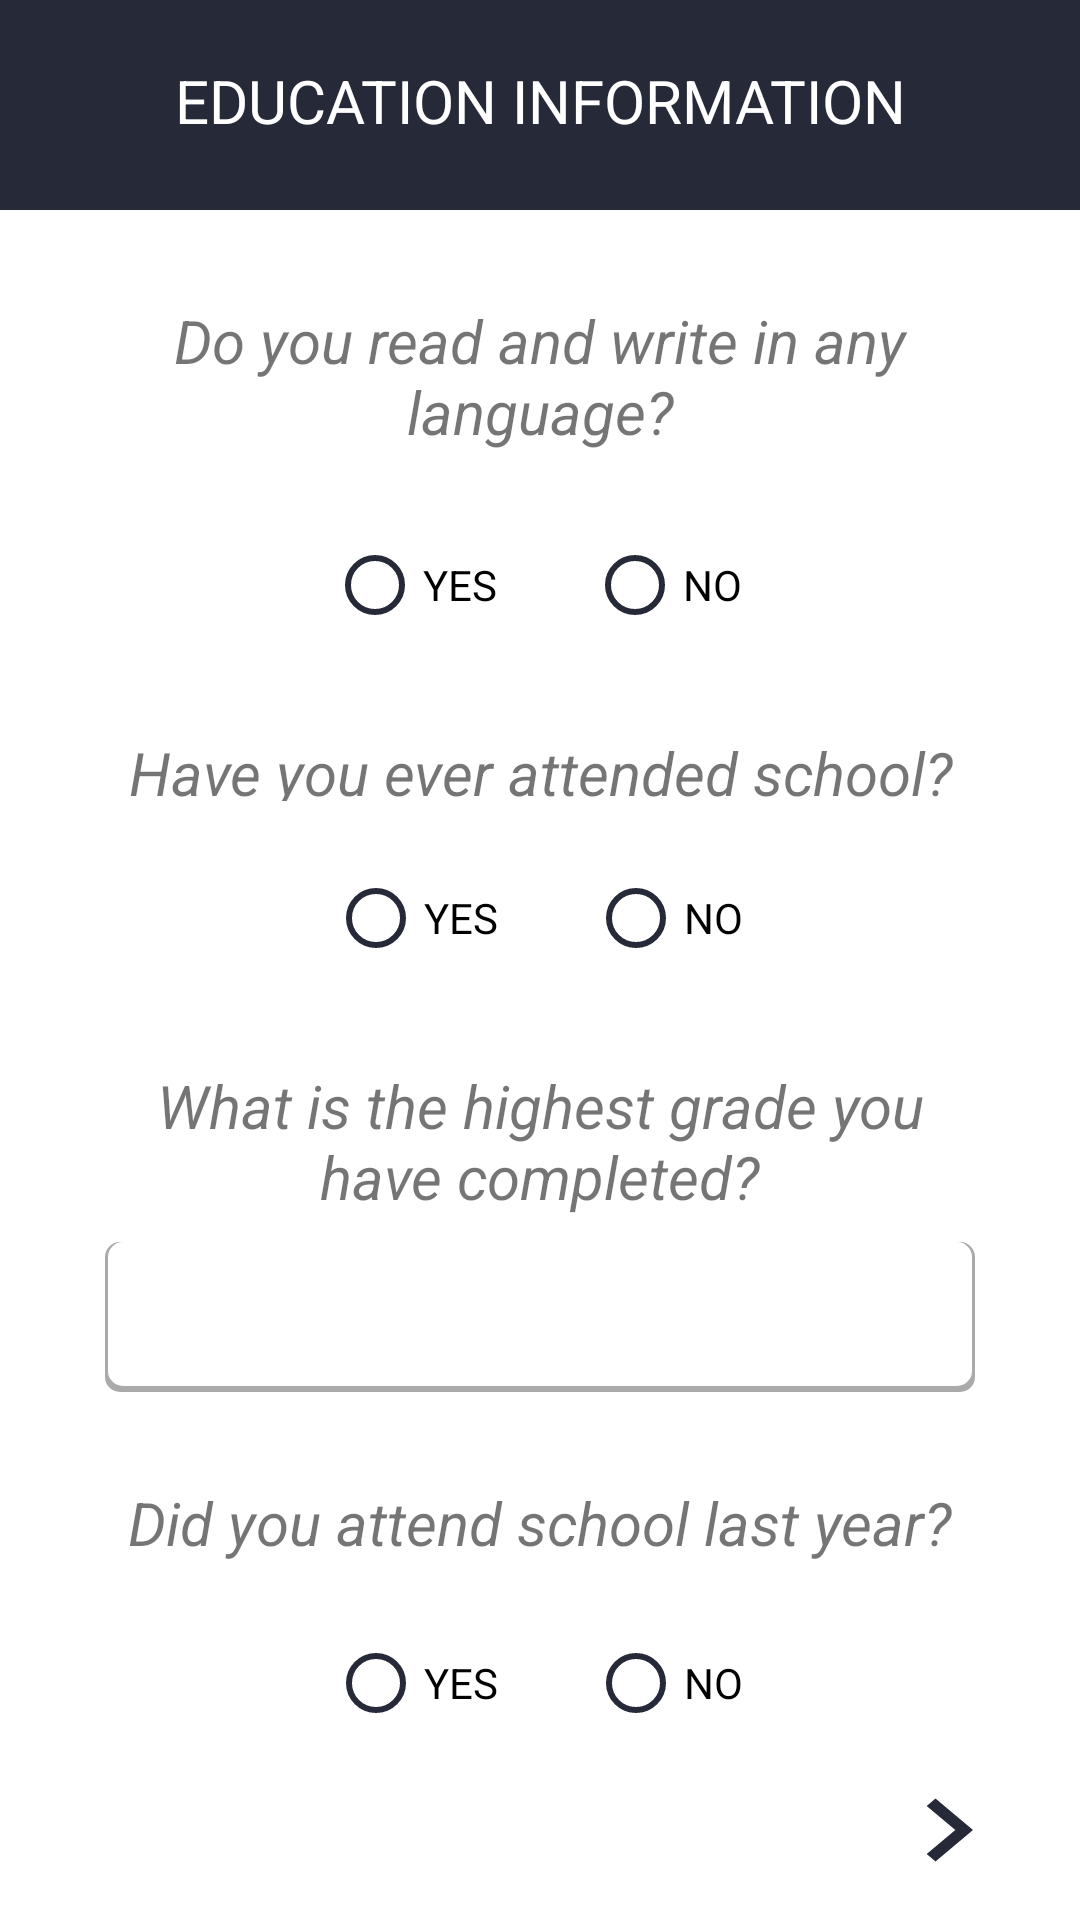

Icons on this 1080px x 1920px Android screen, each with the point to tap as point (x, y):
navigate next: point (950, 1830)
